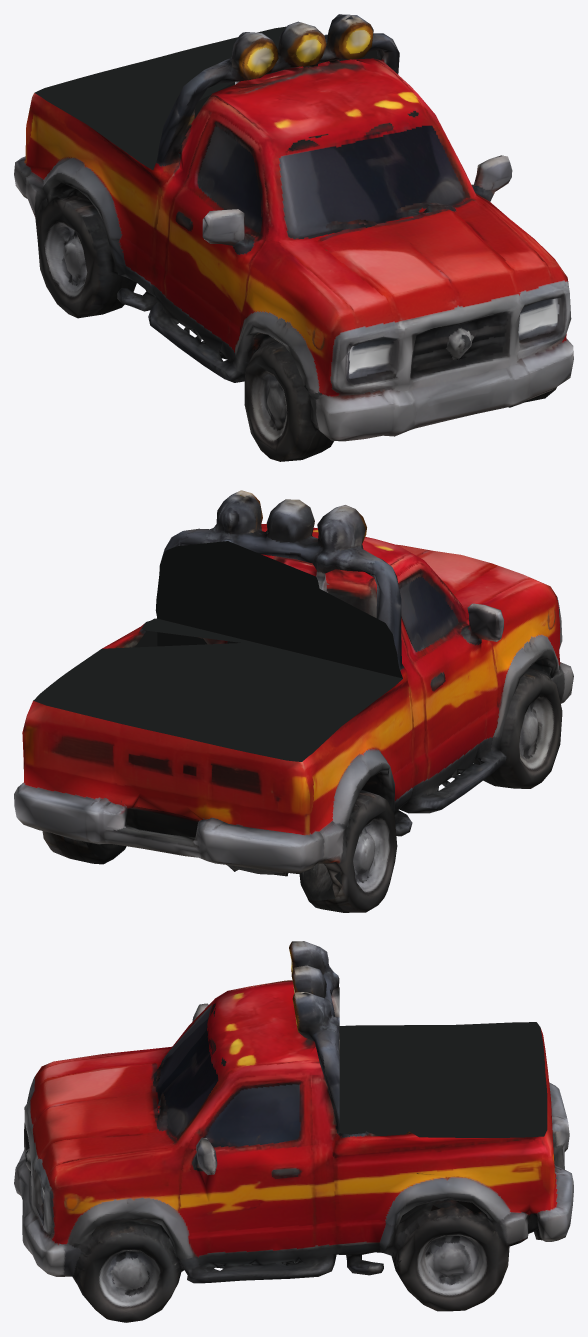
File: NPC_UtilityPickup.fbx
3 renders of one model, top to bottom at view 1: azimuth 30°, elevation 25°; view 2: azimuth 150°, elevation 25°; view 3: azimuth 270°, elevation 25°, orthographic. The views are drawn at different scales.
Visible parts, largest first — view 1: NPC_UtilityPickup; view 2: NPC_UtilityPickup; view 3: NPC_UtilityPickup.
Part boxes in pixels (x1,y1,x2,y2): NPC_UtilityPickup: [14, 14, 573, 461]; NPC_UtilityPickup: [14, 490, 573, 912]; NPC_UtilityPickup: [14, 941, 573, 1322].
Bounding box in the file's own units: 289 × 290 × 490.
2 materials, 2 textured.
